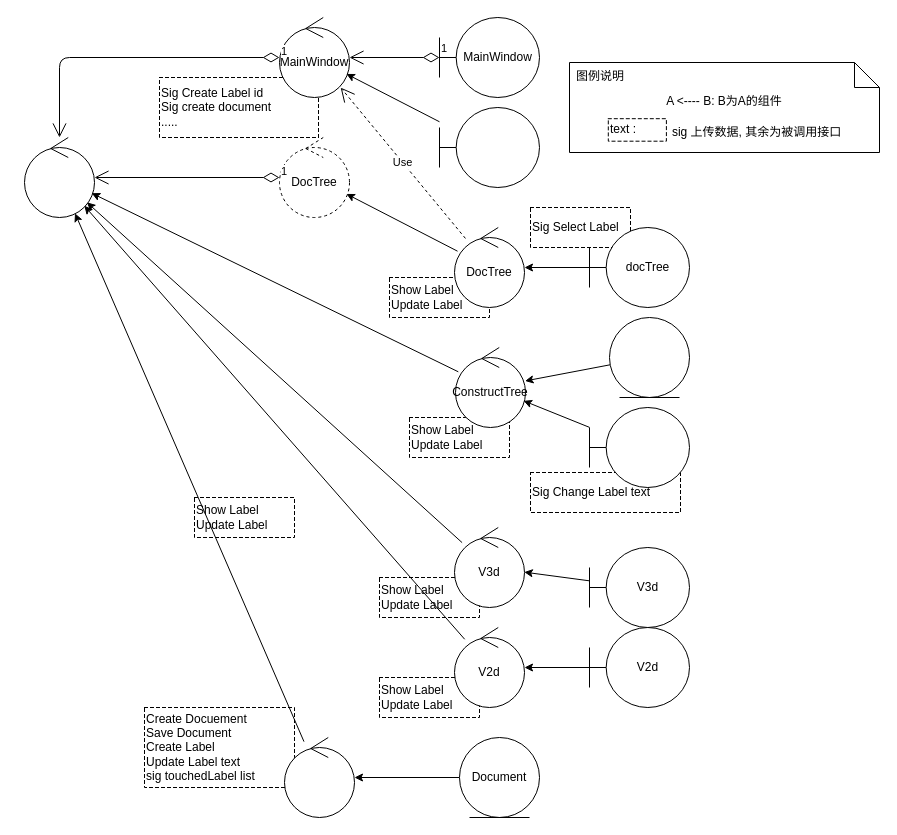
Image size: 897x835. Some labels were removed from this diagram. Each missing label, with the centre of its shape:
DocApp: (319,777)
MainApplication: (59,177)
menubar: (489,147)
tlabel&treeitem: (649,357)
TreeItem: (639,447)
